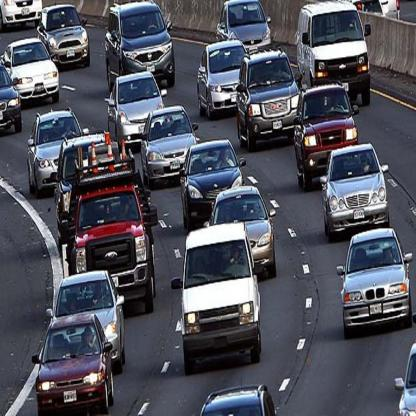face: (70, 299, 76, 310), (85, 334, 91, 344), (385, 248, 391, 258), (337, 96, 342, 107), (124, 203, 129, 213), (257, 73, 262, 83), (99, 287, 104, 296), (362, 160, 367, 169), (343, 163, 348, 172), (233, 252, 237, 261), (225, 156, 229, 164), (168, 119, 172, 127), (69, 163, 73, 171), (238, 54, 242, 62), (67, 124, 71, 131), (256, 205, 260, 211), (199, 163, 203, 169), (181, 123, 184, 131), (278, 66, 281, 74), (214, 58, 217, 65), (121, 97, 125, 102), (71, 22, 75, 27), (155, 133, 158, 139), (147, 88, 150, 94), (351, 23, 354, 29), (36, 51, 39, 56), (150, 22, 153, 27), (233, 19, 236, 24), (255, 13, 258, 18), (44, 138, 47, 142)
